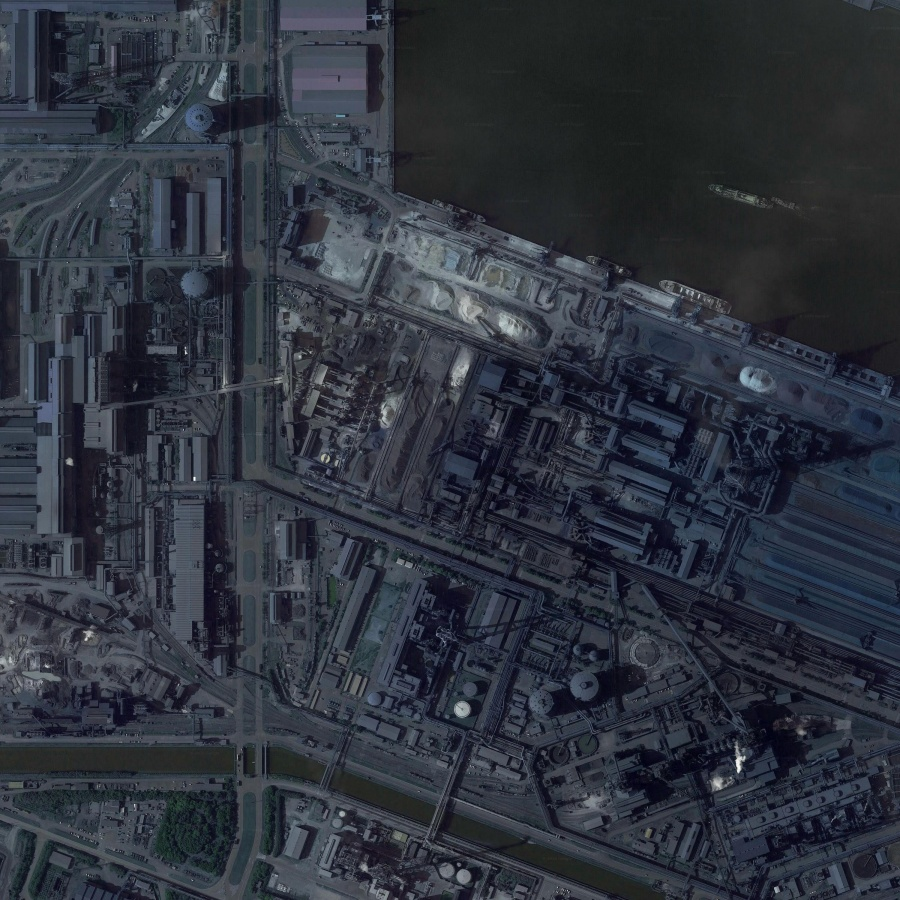PowerPlant: (250, 303, 891, 839)
